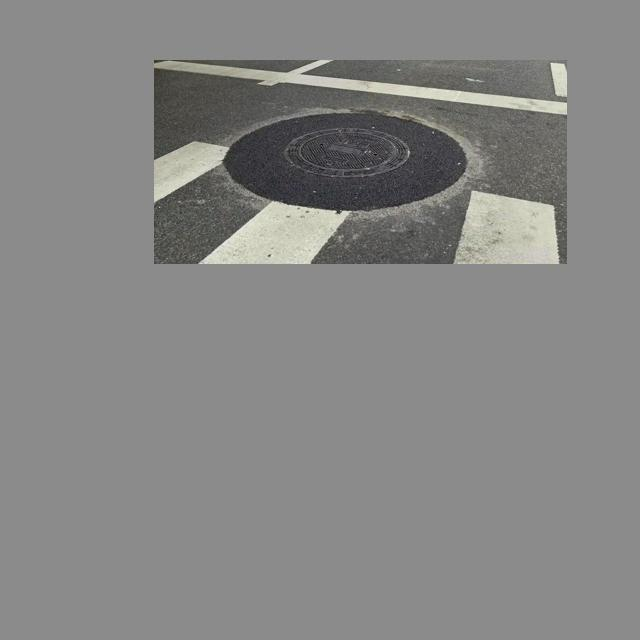good: (220, 101, 482, 218)
